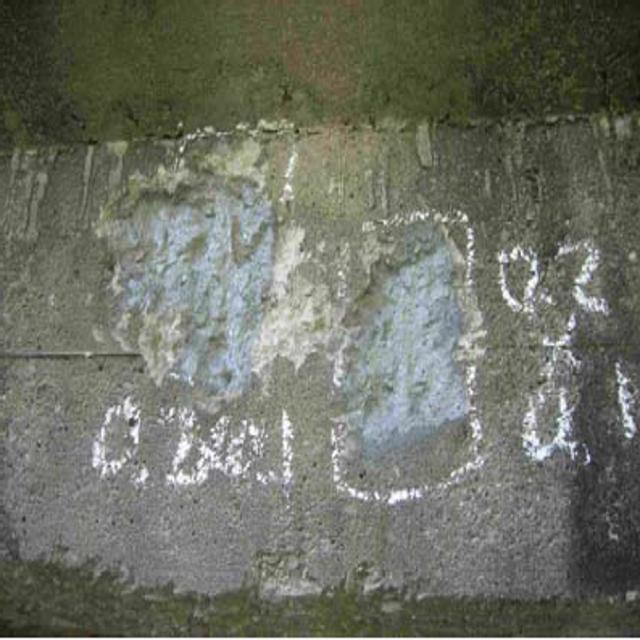spalling: (132, 177, 482, 444)
